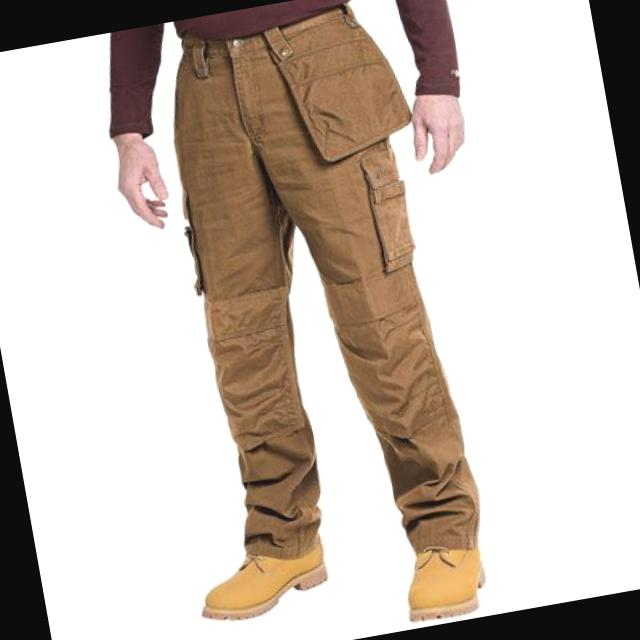pants: (150, 2, 490, 590)
